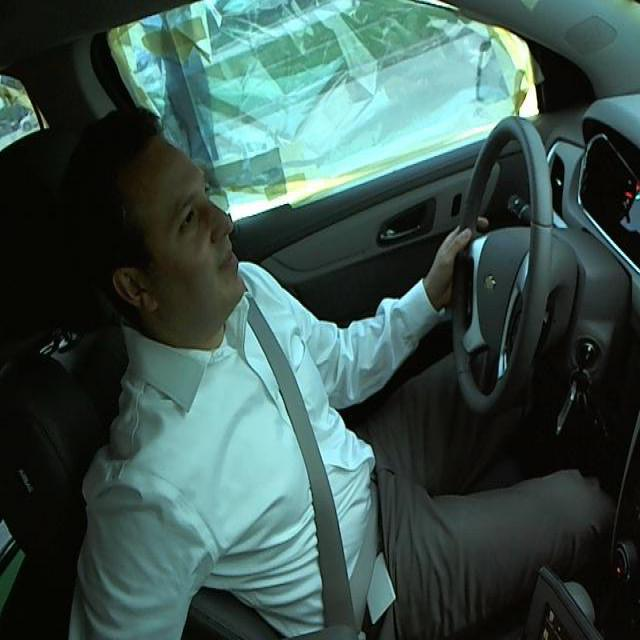seatbelt: (225, 308, 384, 639)
